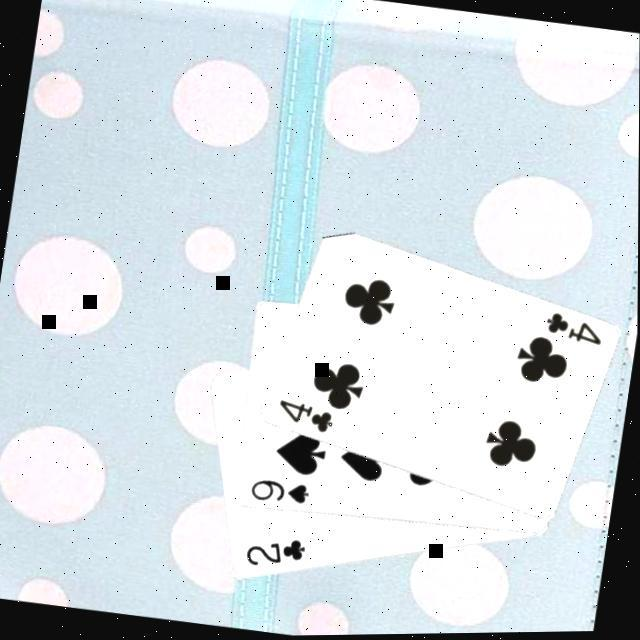2C: (244, 528, 312, 576)
4C: (542, 307, 610, 351), (274, 396, 340, 436)
9S: (248, 472, 316, 510)
